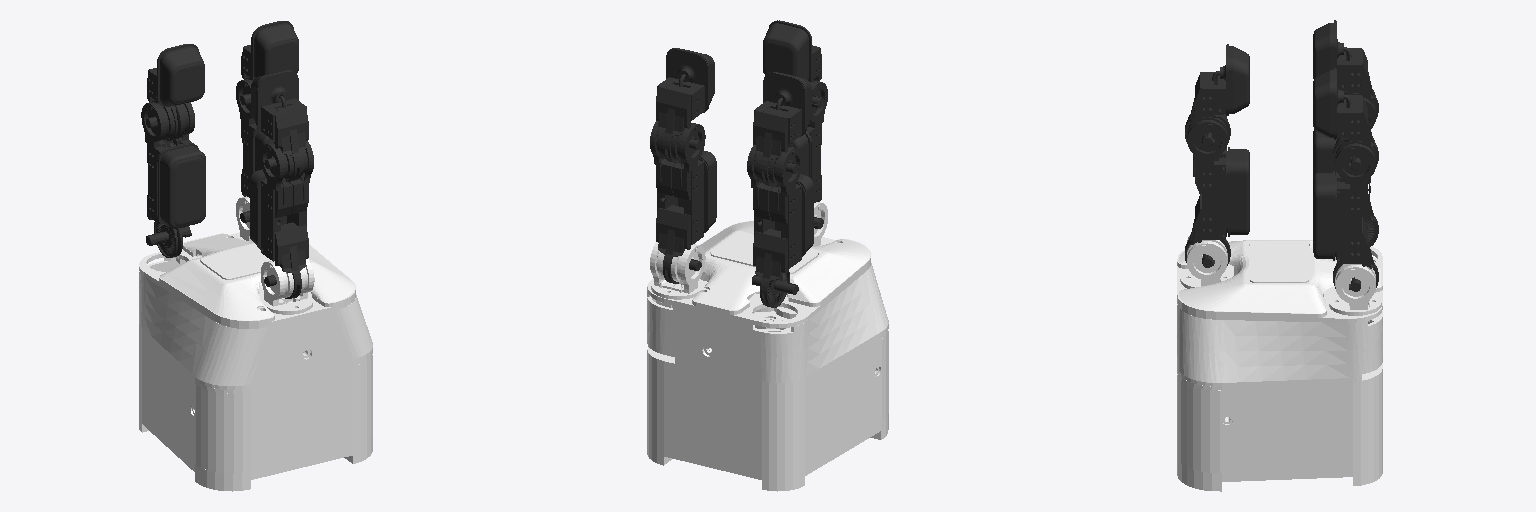
The robot description file, URDF, robot "hybrid_3f":
<?xml version="1.0" encoding="utf-8"?>
<!-- This URDF was automatically created by SolidWorks to URDF Exporter! Originally created by [author] ([email redacted]) 
     Commit Version: 1.6.0-4-g7f85cfe  Build Version: 1.6.7995.38578
     For more information, please see http://wiki.ros.org/sw_urdf_exporter -->
<robot
  name="hybrid_3f">
  <link
    name="base_link">
    <inertial>
      <origin
        xyz="0.0010253 -0.0029533 0.044672"
        rpy="0 0 0" />
      <mass
        value="0.14997" />
      <inertia
        ixx="0.00013563"
        ixy="2.6239E-06"
        ixz="-1.5605E-06"
        iyy="0.00013108"
        iyz="7.5771E-07"
        izz="0.00025029" />
    </inertial>
    <visual>
      <origin
        xyz="0 0 0"
        rpy="0 0 0" />
      <geometry>
        <mesh
          filename="../meshes/base_link.STL" />
      </geometry>
      <material
        name="">
        <color
          rgba="1 1 1 1" />
      </material>
    </visual>
    <collision>
      <origin
        xyz="0 0 0"
        rpy="0 0 0" />
      <geometry>
        <mesh
          filename="../meshes/base_link.STL" />
      </geometry>
    </collision>
  </link>
  <link
    name="thumb_bsae_link">
    <inertial>
      <origin
        xyz="-3.5757E-09 -0.00047962 0.010876"
        rpy="0 0 0" />
      <mass
        value="0.0091031" />
      <inertia
        ixx="9.4294E-07"
        ixy="9.2304E-13"
        ixz="3.6917E-13"
        iyy="8.5939E-07"
        iyz="-8.4941E-09"
        izz="3.1234E-07" />
    </inertial>
    <visual>
      <origin
        xyz="0 0 0"
        rpy="0 0 0" />
      <geometry>
        <mesh
          filename="../meshes/thumb_bsae_link.STL" />
      </geometry>
      <material
        name="">
        <color
          rgba="1 1 1 1" />
      </material>
    </visual>
    <collision>
      <origin
        xyz="0 0 0"
        rpy="0 0 0" />
      <geometry>
        <mesh
          filename="../meshes/thumb_bsae_link.STL" />
      </geometry>
    </collision>
  </link>
  <joint
    name="thumb_bsae_joint"
    type="revolute">
    <origin
      xyz="0 -0.0355 0.0923"
      rpy="0 0 0" />
    <parent
      link="base_link" />
    <child
      link="thumb_bsae_link" />
    <axis
      xyz="0 0 1" />
    <limit
      lower="-1.57"
      upper="1.57"
      effort="1.57"
      velocity="1.57" />
  </joint>
  <link
    name="thumb_prox_link">
    <inertial>
      <origin
        xyz="0.0037499 -0.035664 0.011815"
        rpy="0 0 0" />
      <mass
        value="0.016483" />
      <inertia
        ixx="2.5501E-06"
        ixy="1.5733E-08"
        ixz="6.6481E-11"
        iyy="8.1249E-07"
        iyz="-1.2956E-10"
        izz="2.3164E-06" />
    </inertial>
    <visual>
      <origin
        xyz="0 0 0"
        rpy="0 0 0" />
      <geometry>
        <mesh
          filename="../meshes/thumb_prox_link.STL" />
      </geometry>
      <material
        name="">
        <color
          rgba="0.25098 0.25098 0.25098 1" />
      </material>
    </visual>
    <collision>
      <origin
        xyz="0 0 0"
        rpy="0 0 0" />
      <geometry>
        <mesh
          filename="../meshes/thumb_prox_link.STL" />
      </geometry>
    </collision>
  </link>
  <joint
    name="thumb_prox_joint"
    type="revolute">
    <origin
      xyz="0.0118 0.00040455 0.013"
      rpy="-1.5708 0 1.5708" />
    <parent
      link="thumb_bsae_link" />
    <child
      link="thumb_prox_link" />
    <axis
      xyz="0 0 1" />
    <limit
      lower="-0.785"
      upper="0.785"
      effort="0.785"
      velocity="0.785" />
  </joint>
  <link
    name="thumb_dist_link">
    <inertial>
      <origin
        xyz="0.0052849 -0.019558 0.01179"
        rpy="0 0 0" />
      <mass
        value="0.0081945" />
      <inertia
        ixx="9.1275E-07"
        ixy="1.434E-08"
        ixz="-4.4169E-10"
        iyy="3.9971E-07"
        iyz="2.1995E-10"
        izz="7.6457E-07" />
    </inertial>
    <visual>
      <origin
        xyz="0 0 0"
        rpy="0 0 0" />
      <geometry>
        <mesh
          filename="../meshes/thumb_dist_link.STL" />
      </geometry>
      <material
        name="">
        <color
          rgba="0.25098 0.25098 0.25098 1" />
      </material>
    </visual>
    <collision>
      <origin
        xyz="0 0 0"
        rpy="0 0 0" />
      <geometry>
        <mesh
          filename="../meshes/thumb_dist_link.STL" />
      </geometry>
    </collision>
  </link>
  <joint
    name="thumb_dist_joint"
    type="revolute">
    <origin
      xyz="0 -0.0654 0"
      rpy="0 0 0" />
    <parent
      link="thumb_prox_link" />
    <child
      link="thumb_dist_link" />
    <axis
      xyz="0 0 1" />
    <limit
      lower="-0.785"
      upper="0.785"
      effort="0.785"
      velocity="0.785" />
  </joint>
  <link
    name="index_1_base_link">
    <inertial>
      <origin
        xyz="4.8718E-09 0.00065334 0.0041416"
        rpy="0 0 0" />
      <mass
        value="0.0059562" />
      <inertia
        ixx="5.7999E-07"
        ixy="-5.097E-14"
        ixz="-3.7324E-13"
        iyy="5.1954E-07"
        iyz="3.2343E-08"
        izz="2.414E-07" />
    </inertial>
    <visual>
      <origin
        xyz="0 0 0"
        rpy="0 0 0" />
      <geometry>
        <mesh
          filename="../meshes/index_1_base_link.STL" />
      </geometry>
      <material
        name="">
        <color
          rgba="1 1 1 1" />
      </material>
    </visual>
    <collision>
      <origin
        xyz="0 0 0"
        rpy="0 0 0" />
      <geometry>
        <mesh
          filename="../meshes/index_1_base_link.STL" />
      </geometry>
    </collision>
  </link>
  <joint
    name="index_1_base_joint"
    type="revolute">
    <origin
      xyz="-0.0275 0.03715 0.0923"
      rpy="0 0 0" />
    <parent
      link="base_link" />
    <child
      link="index_1_base_link" />
    <axis
      xyz="0 0 1" />
    <limit
      lower="0"
      upper="1.57"
      effort="1.57"
      velocity="1.57" />
  </joint>
  <link
    name="index_1_prox_link">
    <inertial>
      <origin
        xyz="-0.0037499 0.035664 -0.011785"
        rpy="0 0 0" />
      <mass
        value="0.016483" />
      <inertia
        ixx="2.5501E-06"
        ixy="1.5733E-08"
        ixz="-6.6481E-11"
        iyy="8.1249E-07"
        iyz="1.2956E-10"
        izz="2.3164E-06" />
    </inertial>
    <visual>
      <origin
        xyz="0 0 0"
        rpy="0 0 0" />
      <geometry>
        <mesh
          filename="../meshes/index_1_prox_link.STL" />
      </geometry>
      <material
        name="">
        <color
          rgba="0.25098 0.25098 0.25098 1" />
      </material>
    </visual>
    <collision>
      <origin
        xyz="0 0 0"
        rpy="0 0 0" />
      <geometry>
        <mesh
          filename="../meshes/index_1_prox_link.STL" />
      </geometry>
    </collision>
  </link>
  <joint
    name="index_1_prox_joint"
    type="revolute">
    <origin
      xyz="0.0118 0.0002 0.013"
      rpy="1.5708 0 1.5708" />
    <parent
      link="index_1_base_link" />
    <child
      link="index_1_prox_link" />
    <axis
      xyz="0 0 1" />
    <limit
      lower="-0.785"
      upper="0.785"
      effort="0.785"
      velocity="0.785" />
  </joint>
  <link
    name="index_1_dist_link">
    <inertial>
      <origin
        xyz="-0.00528489013229476 0.0195583162536312 -0.0118099653821271"
        rpy="0 0 0" />
      <mass
        value="0.00819453945657895" />
      <inertia
        ixx="9.12753911656529E-07"
        ixy="1.43398179339355E-08"
        ixz="4.4169251134486E-10"
        iyy="3.99707120995986E-07"
        iyz="-2.19949482824185E-10"
        izz="7.64569644592233E-07" />
    </inertial>
    <visual>
      <origin
        xyz="0 0 0"
        rpy="0 0 0" />
      <geometry>
        <mesh
          filename="../meshes/index_1_dist_link.STL" />
      </geometry>
      <material
        name="">
        <color
          rgba="0.250980392156863 0.250980392156863 0.250980392156863 1" />
      </material>
    </visual>
    <collision>
      <origin
        xyz="0 0 0"
        rpy="0 0 0" />
      <geometry>
        <mesh
          filename="../meshes/index_1_dist_link.STL" />
      </geometry>
    </collision>
  </link>
  <joint
    name="index_1_dist_joint"
    type="revolute">
    <origin
      xyz="0 0.0654 0"
      rpy="0 0 0" />
    <parent
      link="index_1_prox_link" />
    <child
      link="index_1_dist_link" />
    <axis
      xyz="0 0 1" />
    <limit
      lower="-0.785"
      upper="0.785"
      effort="0.785"
      velocity="0.785" />
  </joint>
  <link
    name="index_2_base_link">
    <inertial>
      <origin
        xyz="4.87180940728082E-09 -0.00065334316221427 -0.00414157472646259"
        rpy="0 0 0" />
      <mass
        value="0.00595623693303909" />
      <inertia
        ixx="5.79985838603613E-07"
        ixy="5.09698546600106E-14"
        ixz="3.73241412440236E-13"
        iyy="5.19541232611213E-07"
        iyz="3.23428747445384E-08"
        izz="2.41401688992226E-07" />
    </inertial>
    <visual>
      <origin
        xyz="0 0 0"
        rpy="0 0 0" />
      <geometry>
        <mesh
          filename="../meshes/index_2_base_link.STL" />
      </geometry>
      <material
        name="">
        <color
          rgba="1 1 1 1" />
      </material>
    </visual>
    <collision>
      <origin
        xyz="0 0 0"
        rpy="0 0 0" />
      <geometry>
        <mesh
          filename="../meshes/index_2_base_link.STL" />
      </geometry>
    </collision>
  </link>
  <joint
    name="index_2_base_joint"
    type="revolute">
    <origin
      xyz="0.0275 0.03715 0.0923"
      rpy="3.1416 0 0" />
    <parent
      link="base_link" />
    <child
      link="index_2_base_link" />
    <axis
      xyz="0 0 1" />
    <limit
      lower="0"
      upper="1.57"
      effort="1.57"
      velocity="1.57" />
  </joint>
  <link
    name="index_2_prox_link">
    <inertial>
      <origin
        xyz="-0.00374992138855147 0.0356637065583229 -0.0117854754155759"
        rpy="0 0 0" />
      <mass
        value="0.0164827087762703" />
      <inertia
        ixx="2.55005451913781E-06"
        ixy="1.57328821432116E-08"
        ixz="-6.64807107604902E-11"
        iyy="8.12494405412609E-07"
        iyz="1.29559002168546E-10"
        izz="2.31638757109714E-06" />
    </inertial>
    <visual>
      <origin
        xyz="0 0 0"
        rpy="0 0 0" />
      <geometry>
        <mesh
          filename="../meshes/index_2_prox_link.STL" />
      </geometry>
      <material
        name="">
        <color
          rgba="0.250980392156863 0.250980392156863 0.250980392156863 1" />
      </material>
    </visual>
    <collision>
      <origin
        xyz="0 0 0"
        rpy="0 0 0" />
      <geometry>
        <mesh
          filename="../meshes/index_2_prox_link.STL" />
      </geometry>
    </collision>
  </link>
  <joint
    name="index_2_prox_joint"
    type="revolute">
    <origin
      xyz="0.0118 -0.0002 -0.013"
      rpy="-1.5708 0 -1.5708" />
    <parent
      link="index_2_base_link" />
    <child
      link="index_2_prox_link" />
    <axis
      xyz="0 0 1" />
    <limit
      lower="-0.785"
      upper="0.785"
      effort="0.785"
      velocity="0.785" />
  </joint>
  <link
    name="index_2_dist_link">
    <inertial>
      <origin
        xyz="-0.00528489013229475 0.0195583162536312 -0.0118099653821271"
        rpy="0 0 0" />
      <mass
        value="0.00819453945657895" />
      <inertia
        ixx="9.12753911656529E-07"
        ixy="1.43398179339354E-08"
        ixz="4.41692511344808E-10"
        iyy="3.99707120995986E-07"
        iyz="-2.19949482823209E-10"
        izz="7.64569644592233E-07" />
    </inertial>
    <visual>
      <origin
        xyz="0 0 0"
        rpy="0 0 0" />
      <geometry>
        <mesh
          filename="../meshes/index_2_dist_link.STL" />
      </geometry>
      <material
        name="">
        <color
          rgba="0.250980392156863 0.250980392156863 0.250980392156863 1" />
      </material>
    </visual>
    <collision>
      <origin
        xyz="0 0 0"
        rpy="0 0 0" />
      <geometry>
        <mesh
          filename="../meshes/index_2_dist_link.STL" />
      </geometry>
    </collision>
  </link>
  <joint
    name="index_2_dist_joint"
    type="revolute">
    <origin
      xyz="0 0.0654 0"
      rpy="0 0 0" />
    <parent
      link="index_2_prox_link" />
    <child
      link="index_2_dist_link" />
    <axis
      xyz="0 0 1" />
    <limit
      lower="-0.785"
      upper="0.785"
      effort="0.785"
      velocity="0.785" />
  </joint>
</robot>

--- Facts derived from the render (not from the file) ---
3 views of the same robot in one strip: view 1: azimuth 30°, elevation 25°; view 2: azimuth 150°, elevation 25°; view 3: azimuth 270°, elevation 25° (orthographic).
Robot: hybrid_3f — 10 links, 9 joints (9 revolute); root link base_link; default pose: all joints at 0.
Links seen in each view (by area): view 1: base_link, index_1_prox_link, thumb_prox_link, thumb_dist_link, index_1_dist_link, index_2_dist_link, thumb_bsae_link, index_2_prox_link; view 2: base_link, index_1_prox_link, index_2_prox_link, index_1_dist_link, index_2_dist_link, thumb_dist_link, index_2_base_link, thumb_prox_link; view 3: base_link, index_2_prox_link, thumb_prox_link, index_2_dist_link, thumb_dist_link, index_1_dist_link, index_2_base_link, thumb_bsae_link, index_1_prox_link.
Boxes of the visible links, box(x1,y1,x2,y2) form: base_link: box(139, 233, 372, 491); index_1_prox_link: box(141, 101, 205, 257); thumb_prox_link: box(250, 141, 313, 298); thumb_dist_link: box(251, 70, 308, 181); index_1_dist_link: box(146, 44, 204, 140); index_2_dist_link: box(240, 21, 298, 104); thumb_bsae_link: box(261, 259, 314, 314); index_2_prox_link: box(236, 78, 274, 222); base_link: box(647, 221, 888, 491); index_1_prox_link: box(747, 145, 813, 307); index_2_prox_link: box(650, 121, 716, 283); index_1_dist_link: box(753, 72, 811, 186); index_2_dist_link: box(656, 48, 714, 162); thumb_dist_link: box(763, 20, 823, 107); index_2_base_link: box(650, 242, 705, 307); thumb_prox_link: box(788, 80, 827, 228); base_link: box(1177, 240, 1382, 491); index_2_prox_link: box(1313, 138, 1378, 291); thumb_prox_link: box(1185, 114, 1249, 267); index_2_dist_link: box(1313, 68, 1378, 170); thumb_dist_link: box(1185, 44, 1249, 146); index_1_dist_link: box(1313, 20, 1378, 118); index_2_base_link: box(1329, 259, 1381, 321); thumb_bsae_link: box(1180, 234, 1232, 288); index_1_prox_link: box(1313, 90, 1378, 246).
Bounding box of the posed robot: 0.0997 × 0.1006 × 0.2147 m (x, y, z).
Meshes: 10 distinct files referenced, 9 mesh visuals loaded (9 binary STL); not drawn: 1 (reference not matched to a file when rendering).